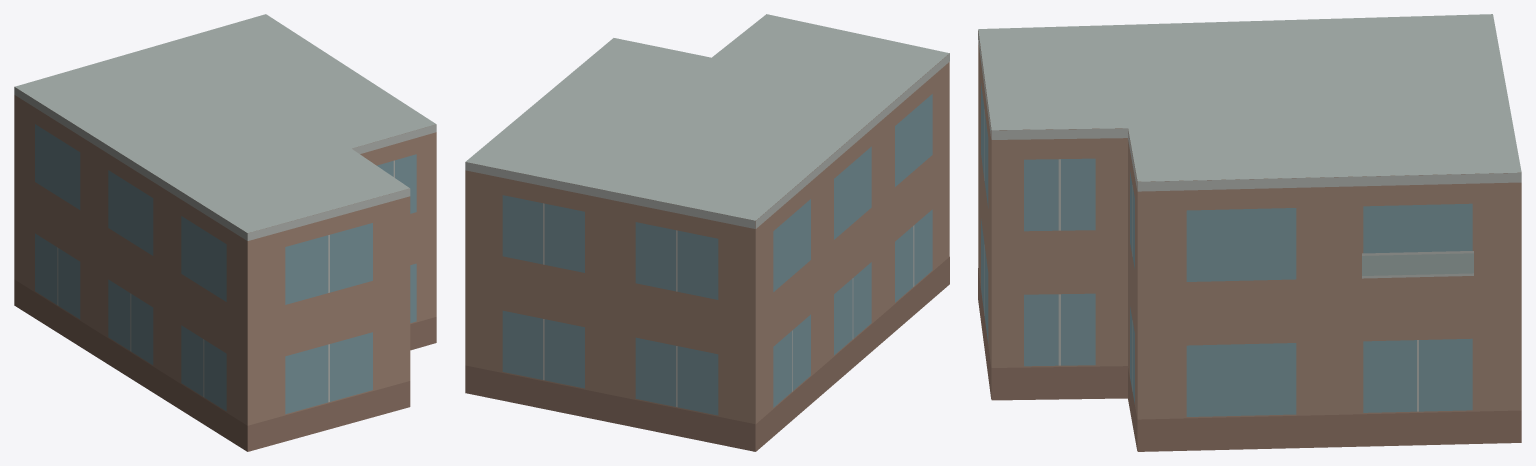
The model's file is survey-upis-32915899.glb.
The picture shows the model from 3 angles, left to right: view 1: azimuth 30°, elevation 25°; view 2: azimuth 150°, elevation 25°; view 3: azimuth 270°, elevation 25°; orthographic projection. The views are drawn at different scales.
Parts seen in each view (by area): view 1: survey-upis-32915899.tmp; view 2: survey-upis-32915899.tmp; view 3: survey-upis-32915899.tmp.
Boxes of the visible parts, box(x1,y1,x2,y2) form: survey-upis-32915899.tmp: box(14, 14, 436, 451); survey-upis-32915899.tmp: box(465, 14, 949, 451); survey-upis-32915899.tmp: box(978, 14, 1521, 451).
Bounding box in the file's own units: 8.93 × 6.7 × 12.23.
